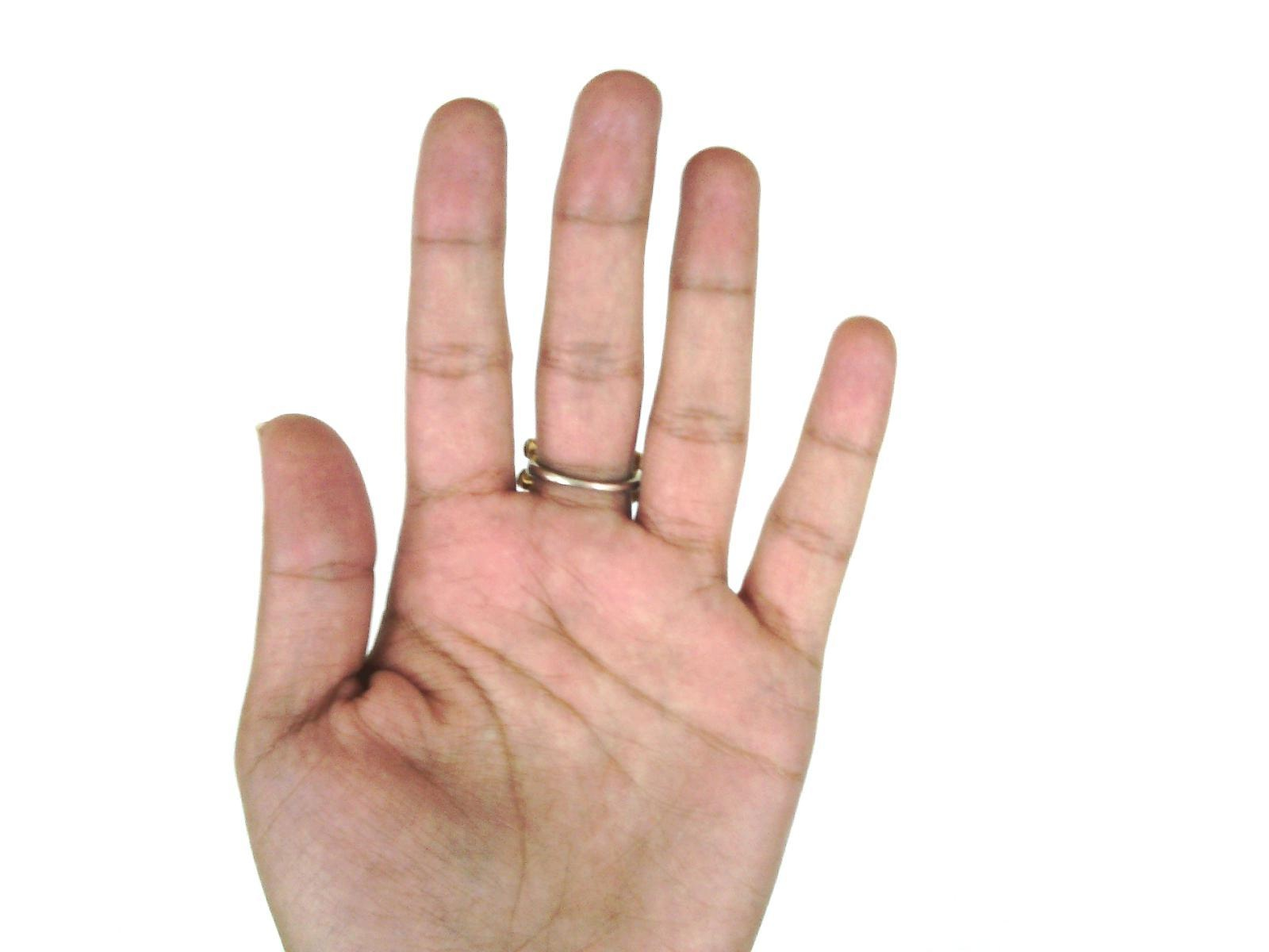open_palm: (232, 69, 901, 951)
